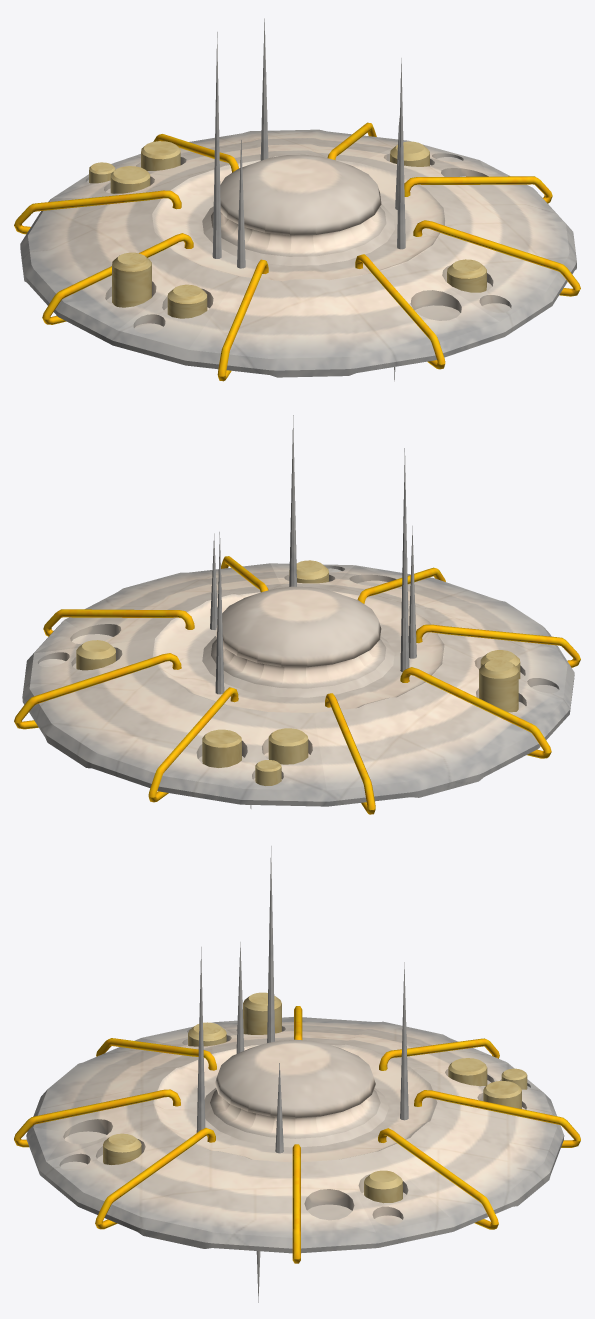
File: Mothership.fbx
3 views of the same model, one above another, from view 1: azimuth 30°, elevation 25°; view 2: azimuth 150°, elevation 25°; view 3: azimuth 270°, elevation 25° (orthographic). The views are drawn at different scales.
Parts seen in each view (by area): view 1: Mother_Ship; view 2: Mother_Ship; view 3: Mother_Ship.
Boxes of the visible parts, box(x1,y1,x2,y2) form: Mother_Ship: box(14, 18, 580, 381); Mother_Ship: box(14, 415, 580, 814); Mother_Ship: box(14, 846, 580, 1302).
Size of the model in its own units: 15.27 by 11.3 by 15.27.
1 material, 1 textured.
